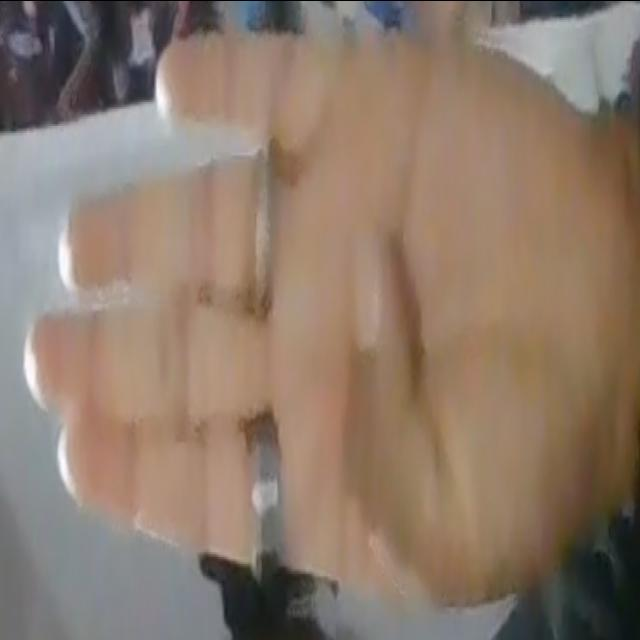B: (18, 7, 622, 617)
